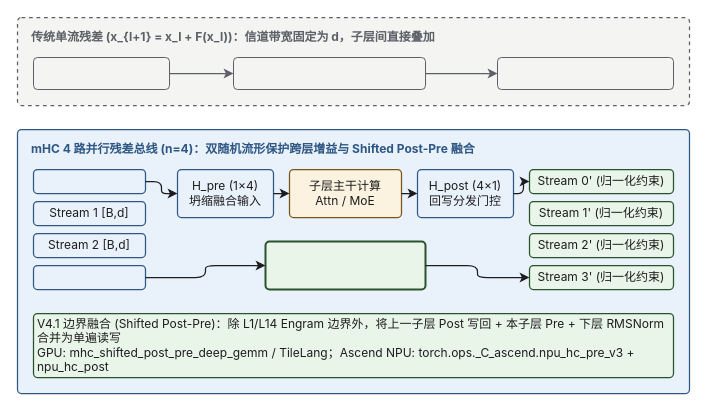
This 708x412 diagram has some shape labels left out. The shapes that lost their labels are listed below. From the top down, each one's centre as x and y in pixels, then its label:
At point 101,73: "单流 x_l [B, d]".
At point 329,73: "RMSNorm -> Attn / MoE".
At point 585,73: "+ 写回 x_{l+1} [B, d]".
At point 89,181: "Stream 0 [B,d]".
At point 89,277: "Stream 3 [B,d]".
At point 345,265: "H_res (4×4) Sinkhorn 双随机混洗".
